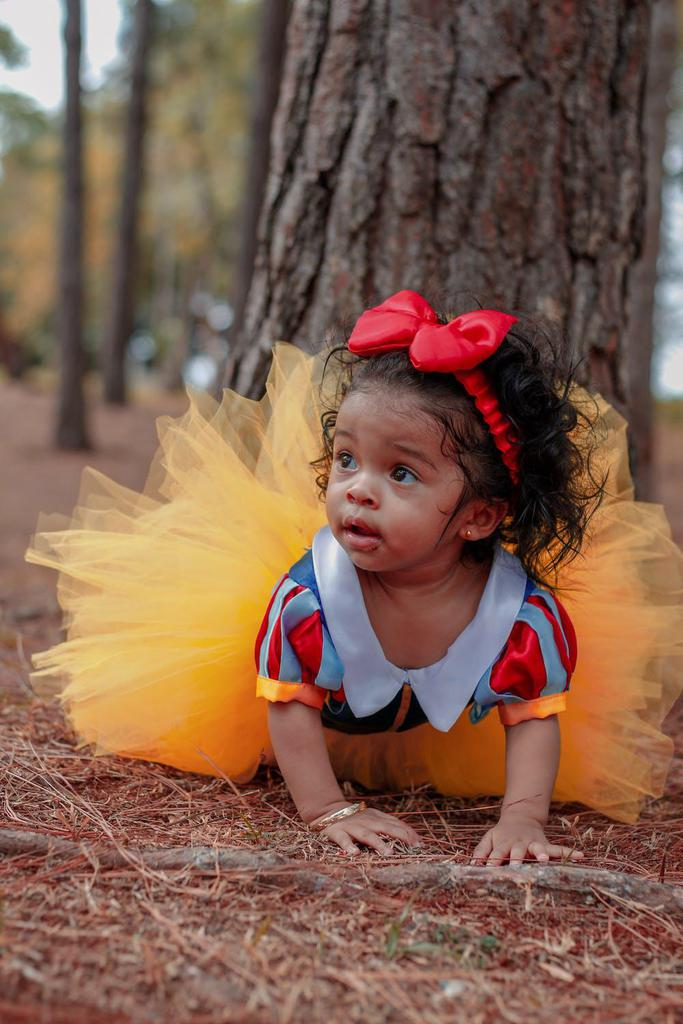child: (191, 288, 631, 878)
